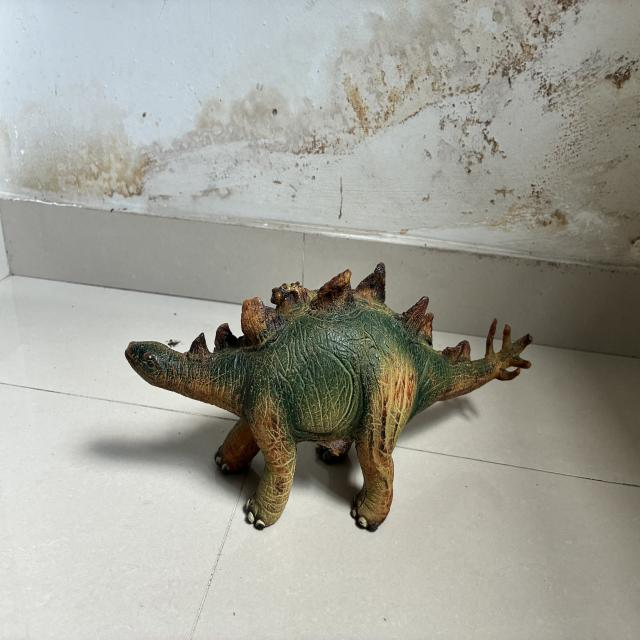dinosaur: (125, 263, 532, 531)
